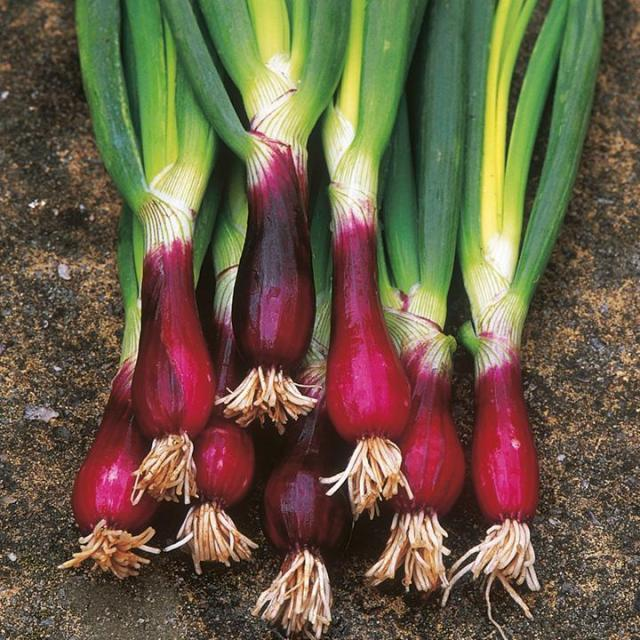Onion: (55, 0, 602, 640)
